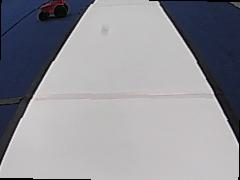Tracktor: (35, 0, 68, 23)
